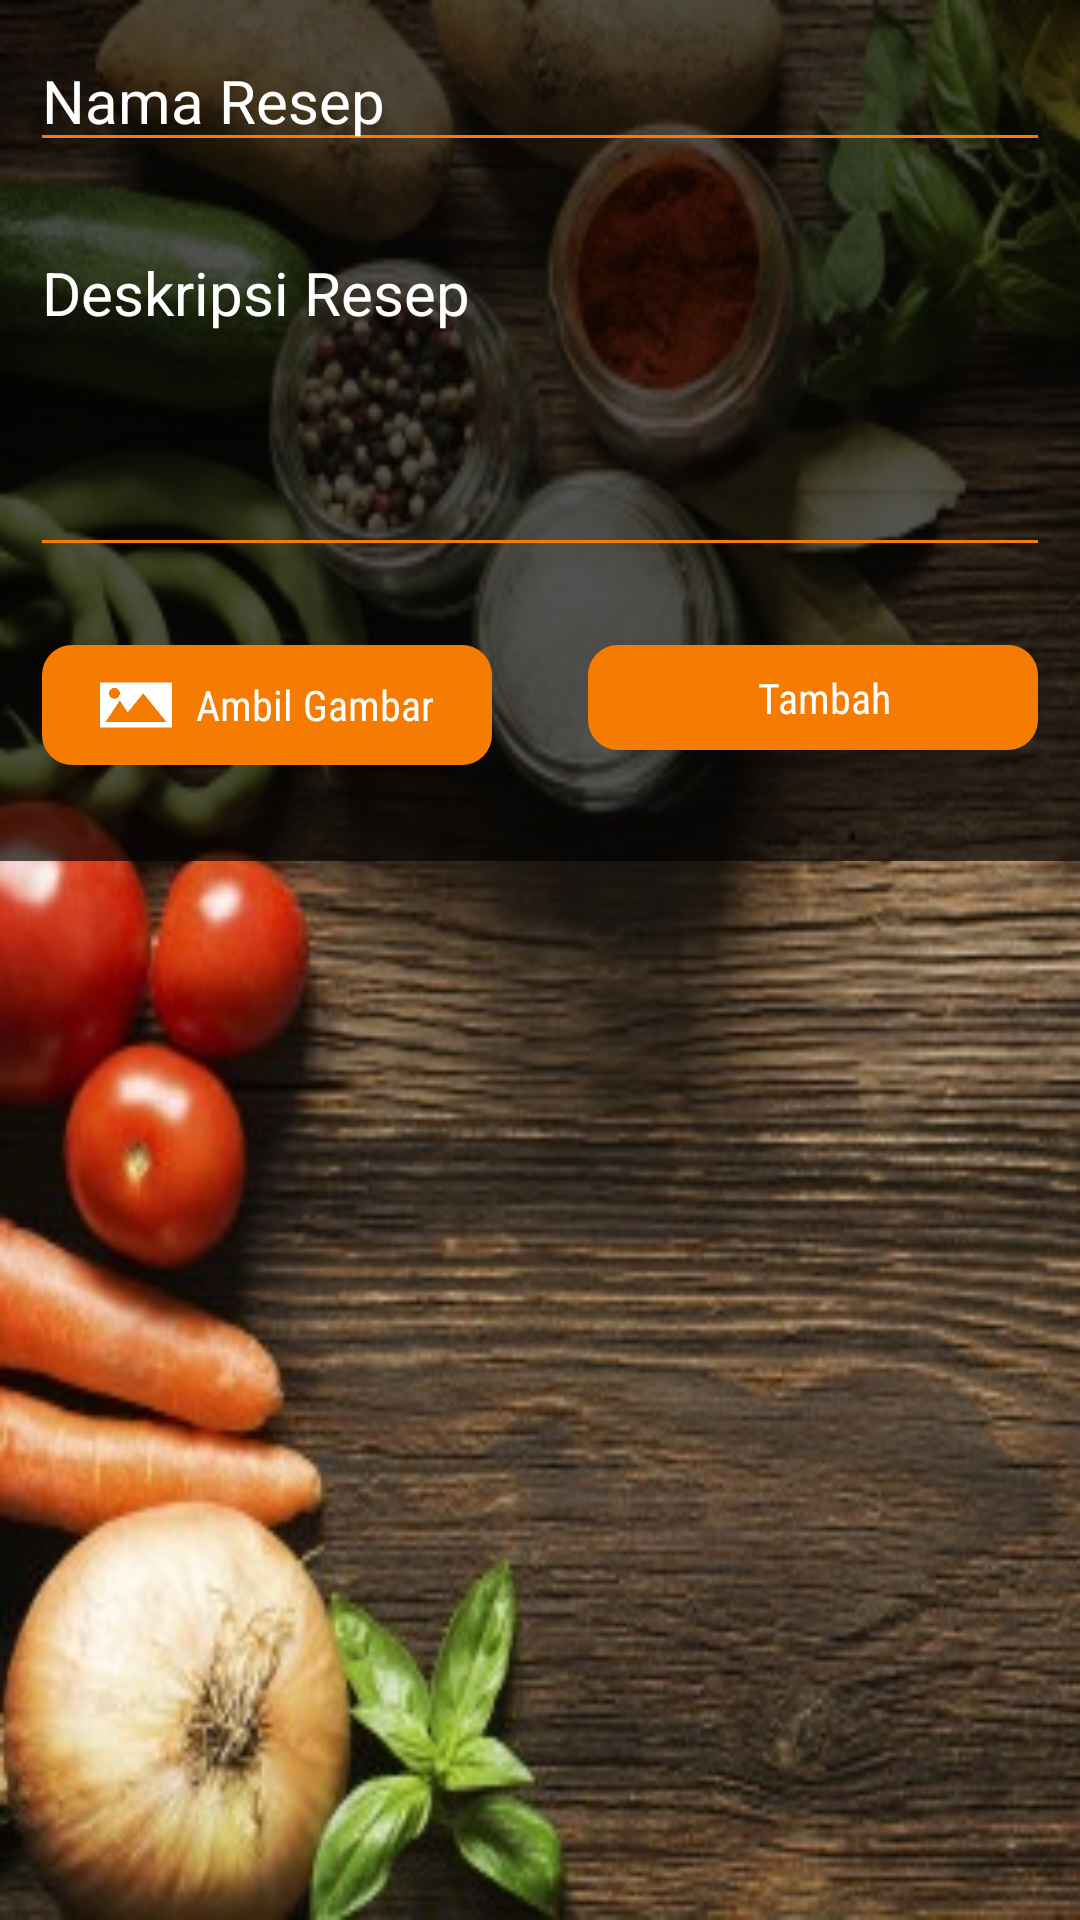

Point at icon controls on the screen. Image size 1080*1920, points as (x,y).
gallery: (136,705)
